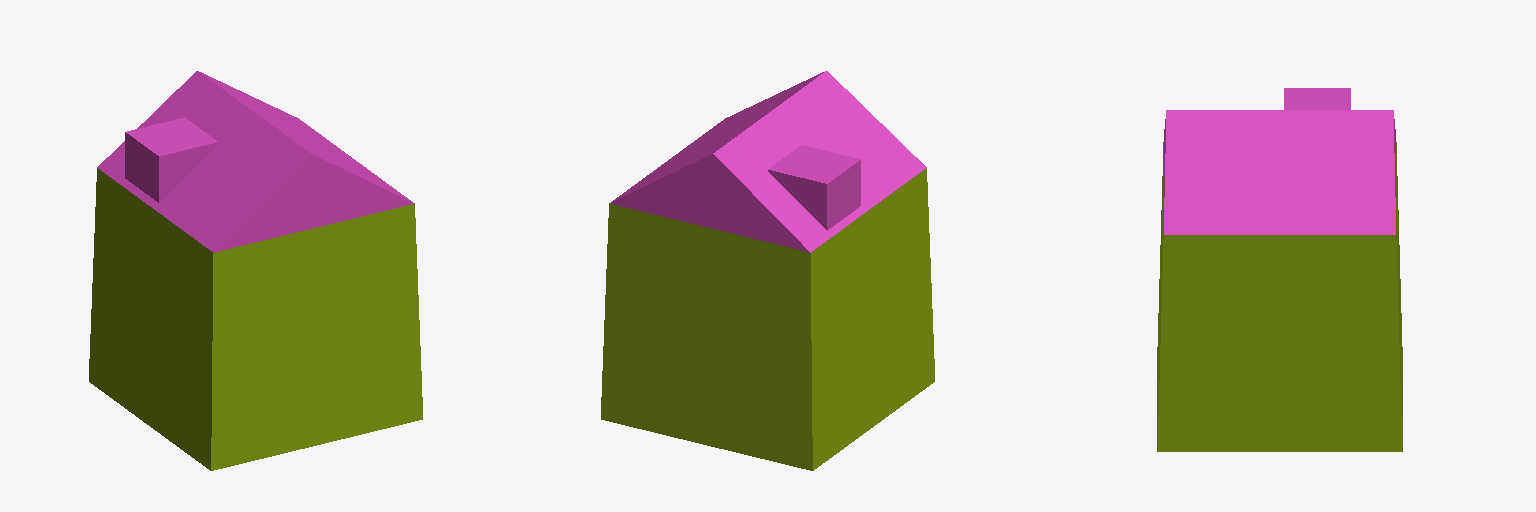
The model's file is house-solid.obj.
3 views of the same model, side by side, from view 1: azimuth 30°, elevation 25°; view 2: azimuth 150°, elevation 25°; view 3: azimuth 270°, elevation 25° (orthographic).
Visible parts, largest first — view 1: Box001, Line001; view 2: Box001, Line001; view 3: Box001, Line001.
Boxes of the visible parts, box(x1,y1,x2,y2) form: Box001: box(89, 168, 422, 470); Line001: box(97, 71, 414, 252); Box001: box(601, 168, 934, 470); Line001: box(609, 71, 926, 252); Box001: box(1157, 142, 1402, 451); Line001: box(1164, 88, 1395, 234).
Bounding box in the file's own units: 5.18 × 6.75 × 5.18.